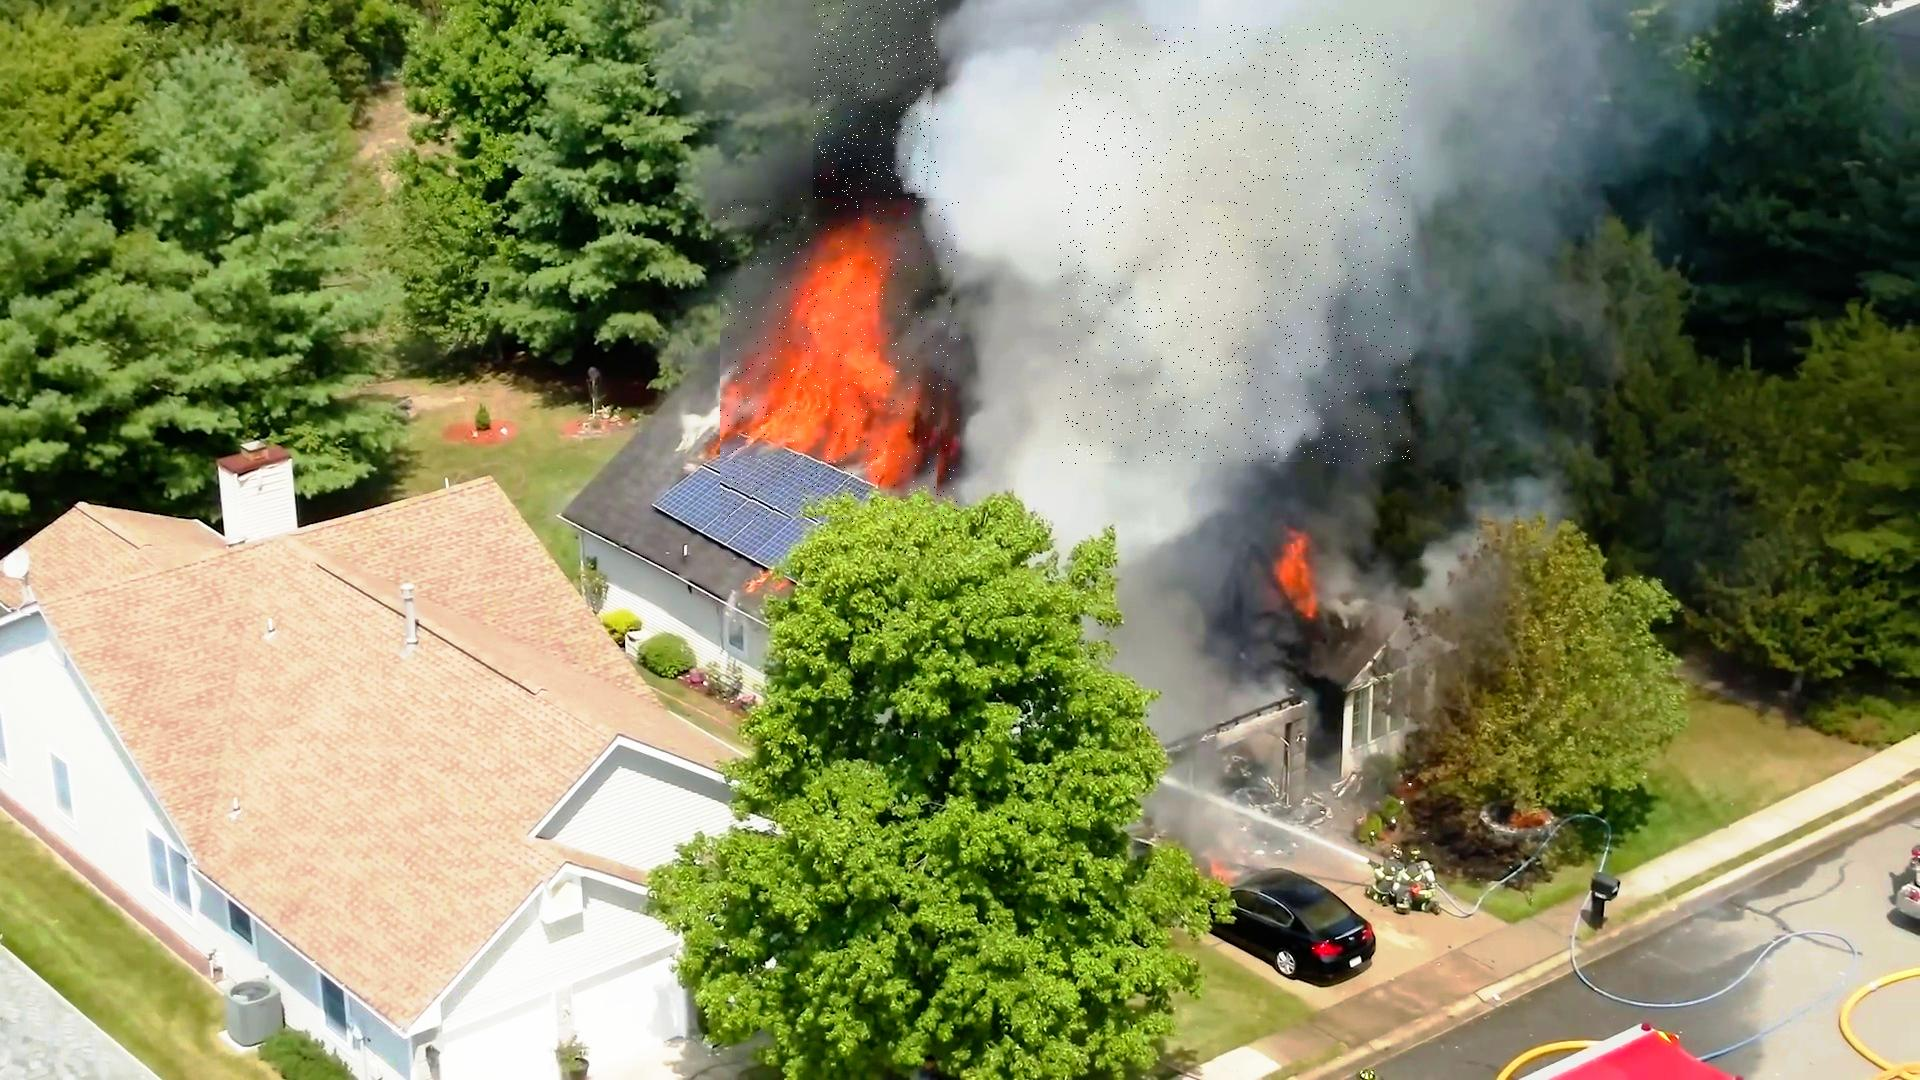fire: (720, 198, 961, 523)
smoke: (1059, 25, 1411, 465), (813, 0, 939, 199)
